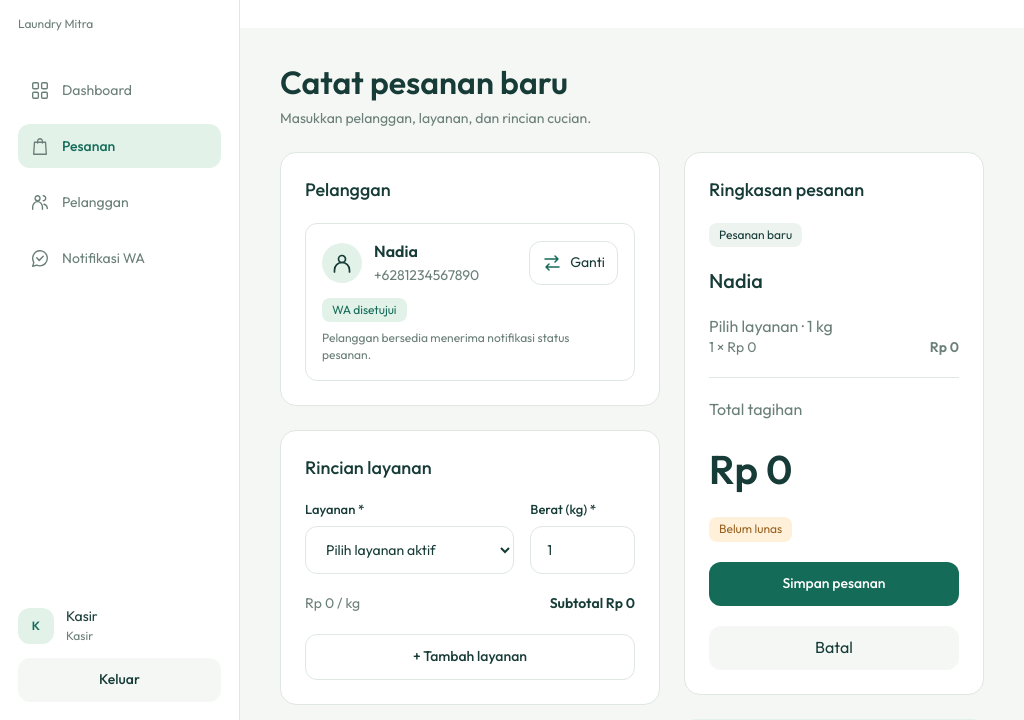
Scenario: creates an order from registered contact and a valid service
This screenshot has width=1024, height=720.
Check: the element named "Pelanggan terpilih" is shown, box 305,223 -> 635,381
Select "Cuci · kg" in the dropdown labelled "Layanan *" at (410, 550), box 305,526 -> 514,574
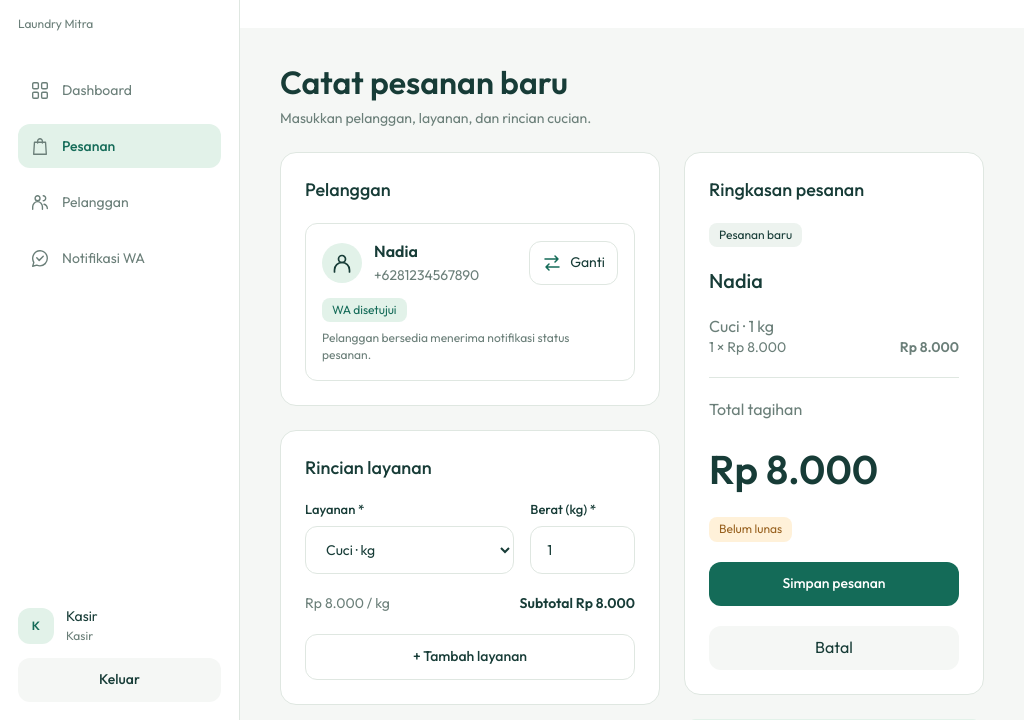
Replace the text in the field labelled "Berat (kg) *" with "4" at (583, 550), box 530,526 -> 635,574
(page scrolled)
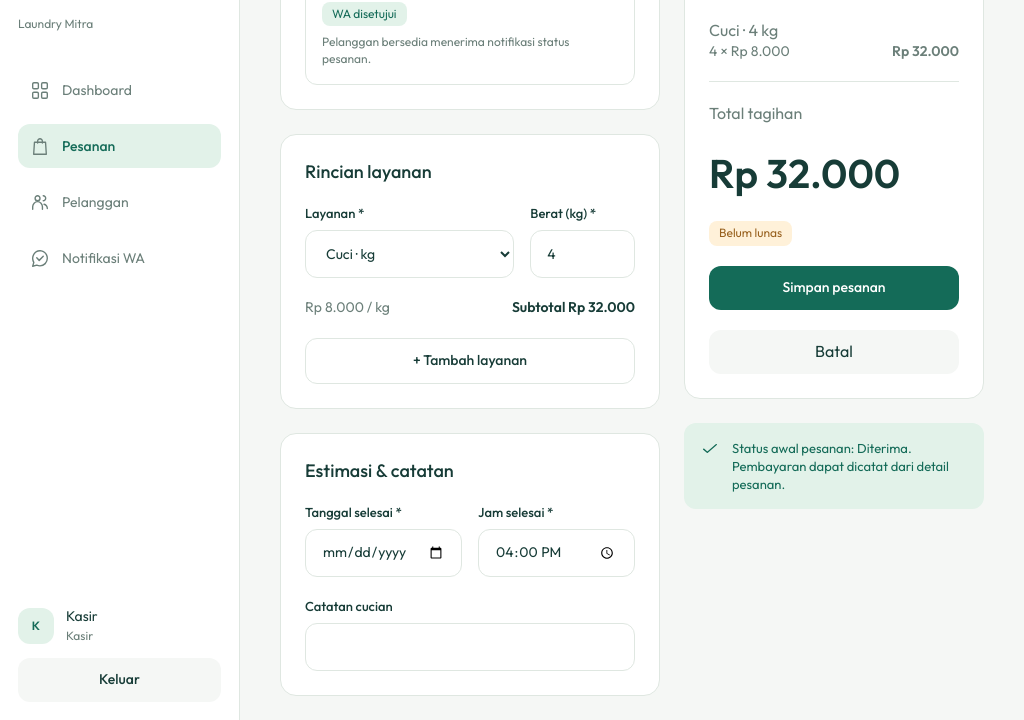
Type "2099-10-20" into the date field labelled "Tanggal selesai *" at (384, 553), box 305,529 -> 462,577
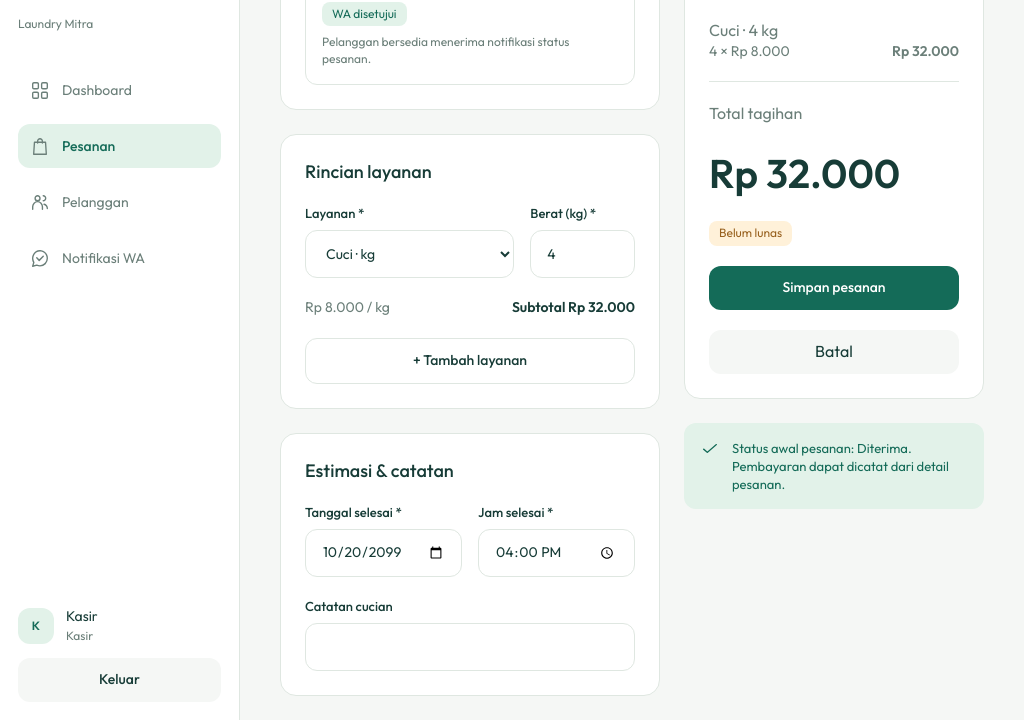
Click the button "Simpan pesanan" at (834, 288), box 709,266 -> 959,310
(page scrolled)
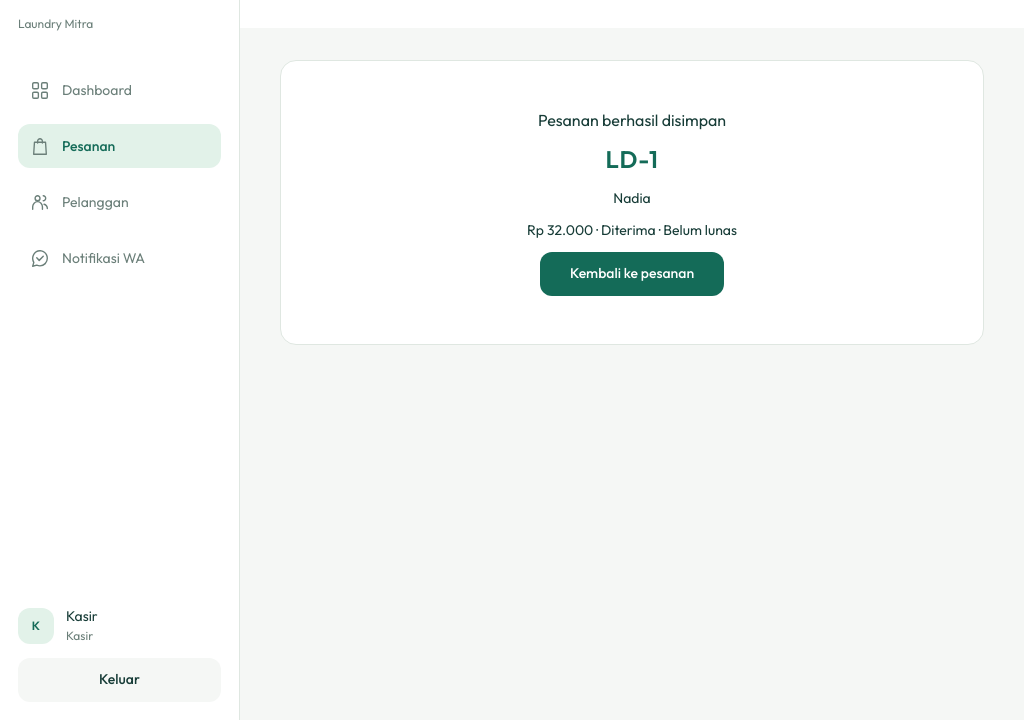
Check: the heading "Pesanan berhasil disimpan" is shown, box 538,109 -> 726,131
Check: the text named "Nomor pesanan" reads "LD-1", box 606,144 -> 658,174
